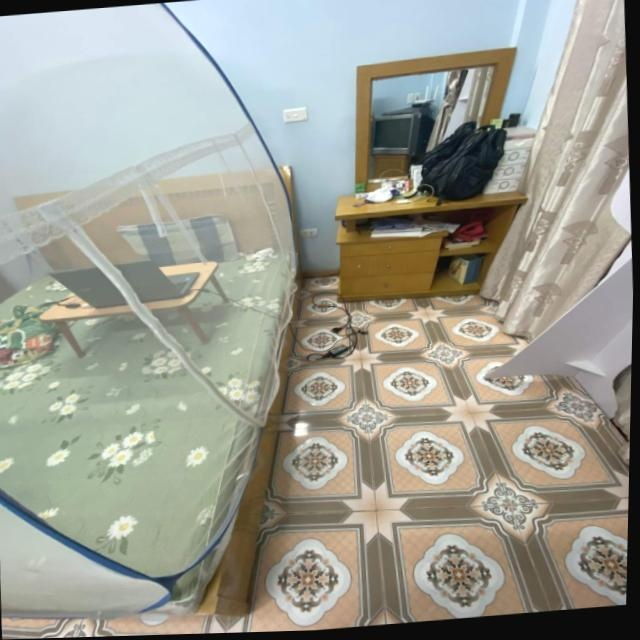outlet: (300, 227, 318, 237)
